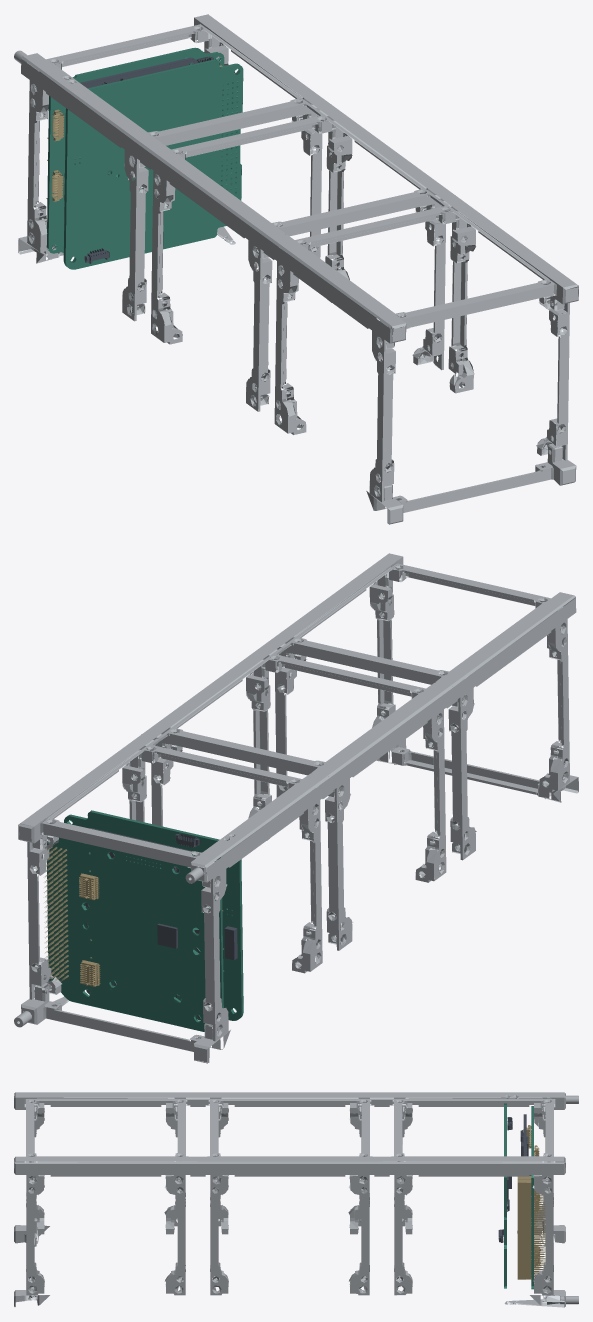
The model's file is suchai_cutaway.glb.
3 renders of one model, top to bottom at view 1: azimuth 30°, elevation 25°; view 2: azimuth 150°, elevation 25°; view 3: azimuth 270°, elevation 25°, orthographic. The views are drawn at different scales.
Visible parts, largest first — view 1: CAD_55_Board, CAD_4_SIDE_FRAME_007TOP, CAD_5_SIDE_FRAME_007MIDDLE, CAD_3_SIDE_FRAME_007BOTTOM, CAD_1_SIDE_FRAME_007TOP, CAD_19_Board, CAD_13_REVE_02-1_RIB_E, CAD_9_REVE_02-1_RIB_E, CAD_18_REVD_02-1_RIB_D, CAD_17_REVE_02-1_RIB_E, CAD_8_REVE_02-1_RIB_C, CAD_16_REVE_02-1_RIB_C (+5 smaller); view 2: CAD_19_Board, CAD_3_SIDE_FRAME_007BOTTOM, CAD_5_SIDE_FRAME_007MIDDLE, CAD_4_SIDE_FRAME_007TOP, CAD_55_Board, CAD_0_SIDE_FRAME_007BOTTOM, CAD_16_REVE_02-1_RIB_C, CAD_8_REVE_02-1_RIB_C, CAD_12_REVE_02-1_RIB_C, CAD_13_REVE_02-1_RIB_E, CAD_9_REVE_02-1_RIB_E, CAD_17_REVE_02-1_RIB_E (+10 smaller); view 3: CAD_4_SIDE_FRAME_007TOP, CAD_3_SIDE_FRAME_007BOTTOM, CAD_5_SIDE_FRAME_007MIDDLE, CAD_24_Samtec-SSQ-126-03-G-D, CAD_18_REVD_02-1_RIB_D, CAD_10_REVD_02-1_RIB_D, CAD_14_REVD_02-1_RIB_D, CAD_7_REVD_02-1_RIB_F, CAD_11_REVD_02-1_RIB_F, CAD_15_REVD_02-1_RIB_F, CAD_0_SIDE_FRAME_007BOTTOM, CAD_1_SIDE_FRAME_007TOP (+8 smaller).
Part boxes in pixels (box(x1,y1,x2,y2)): CAD_55_Board: box(63, 59, 243, 269); CAD_4_SIDE_FRAME_007TOP: box(267, 194, 578, 349); CAD_5_SIDE_FRAME_007MIDDLE: box(143, 104, 453, 258); CAD_3_SIDE_FRAME_007BOTTOM: box(21, 14, 329, 167); CAD_1_SIDE_FRAME_007TOP: box(366, 443, 576, 524); CAD_19_Board: box(46, 47, 224, 253); CAD_13_REVE_02-1_RIB_E: box(122, 150, 148, 321); CAD_9_REVE_02-1_RIB_E: box(246, 240, 272, 411); CAD_18_REVD_02-1_RIB_D: box(448, 223, 475, 393); CAD_17_REVE_02-1_RIB_E: box(369, 326, 395, 502); CAD_8_REVE_02-1_RIB_C: box(151, 170, 182, 344); CAD_16_REVE_02-1_RIB_C: box(274, 261, 306, 434); CAD_19_Board: box(47, 837, 223, 1031); CAD_3_SIDE_FRAME_007BOTTOM: box(18, 733, 329, 888); CAD_5_SIDE_FRAME_007MIDDLE: box(143, 643, 453, 797); CAD_4_SIDE_FRAME_007TOP: box(267, 553, 576, 706); CAD_55_Board: box(64, 810, 243, 1020); CAD_0_SIDE_FRAME_007BOTTOM: box(21, 983, 230, 1063); CAD_16_REVE_02-1_RIB_C: box(448, 688, 476, 860); CAD_8_REVE_02-1_RIB_C: box(325, 778, 352, 950); CAD_12_REVE_02-1_RIB_C: box(201, 860, 228, 1041); CAD_13_REVE_02-1_RIB_E: box(292, 800, 322, 973); CAD_9_REVE_02-1_RIB_E: box(415, 709, 446, 882); CAD_17_REVE_02-1_RIB_E: box(539, 619, 569, 791); CAD_4_SIDE_FRAME_007TOP: box(14, 1092, 197, 1182); CAD_3_SIDE_FRAME_007BOTTOM: box(382, 1092, 565, 1182); CAD_5_SIDE_FRAME_007MIDDLE: box(198, 1092, 381, 1182); CAD_24_Samtec-SSQ-126-03-G-D: box(517, 1179, 545, 1279); CAD_18_REVD_02-1_RIB_D: box(164, 1175, 185, 1295); CAD_10_REVD_02-1_RIB_D: box(348, 1175, 369, 1295); CAD_14_REVD_02-1_RIB_D: box(532, 1175, 553, 1295); CAD_7_REVD_02-1_RIB_F: box(210, 1175, 228, 1295); CAD_11_REVD_02-1_RIB_F: box(394, 1175, 412, 1295); CAD_15_REVD_02-1_RIB_F: box(26, 1175, 44, 1295); CAD_0_SIDE_FRAME_007BOTTOM: box(504, 1218, 565, 1307); CAD_1_SIDE_FRAME_007TOP: box(14, 1218, 49, 1307).
Bounding box in the file's own units: 0.1014 × 0.1015 × 0.3479.
